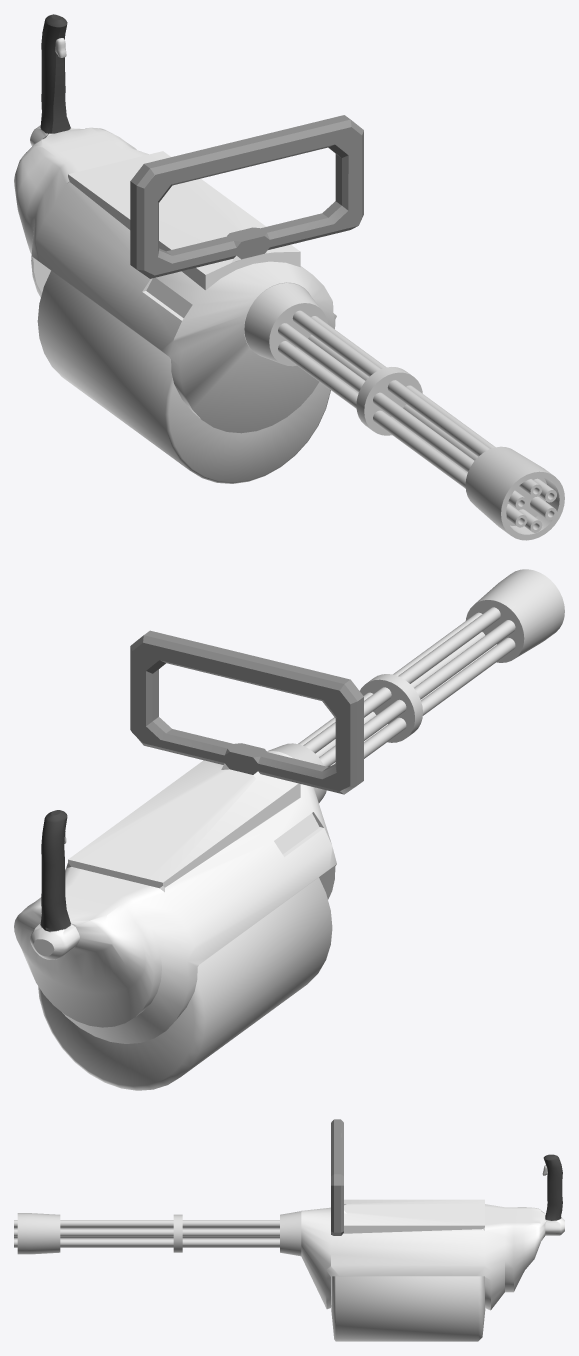
The model's file is MinigunShorter.fbx.
3 views of the same model, one above another, from view 1: azimuth 30°, elevation 25°; view 2: azimuth 150°, elevation 25°; view 3: azimuth 270°, elevation 25° (orthographic). The views are drawn at different scales.
Visible parts, largest first — view 1: MinigunBody, MinigunBarrel, MinigunDrum, MinigunBolt; view 2: MinigunBody, MinigunDrum, MinigunBarrel, MinigunBolt; view 3: MinigunBody, MinigunDrum, MinigunBarrel.
Part boxes in pixels (x1,y1,x2,y2): MinigunBody: [14, 14, 363, 433]; MinigunBarrel: [244, 283, 564, 540]; MinigunDrum: [37, 270, 330, 483]; MinigunBolt: [146, 277, 192, 318]; MinigunBody: [14, 630, 363, 1043]; MinigunDrum: [38, 877, 332, 1090]; MinigunBarrel: [267, 569, 564, 802]; MinigunBolt: [274, 813, 319, 854]; MinigunBody: [301, 1119, 564, 1310]; MinigunDrum: [331, 1276, 485, 1341]; MinigunBarrel: [14, 1211, 301, 1256].
Bounding box in the file's own units: 19.94 × 28.4 × 74.78.
